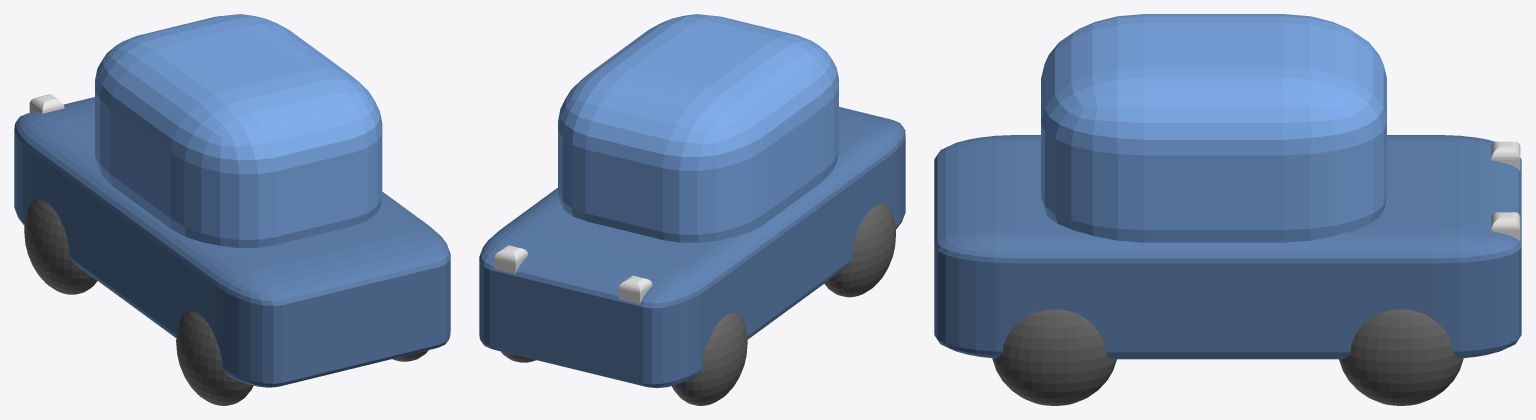
The model's file is car.fbx.
The picture shows the model from 3 angles, left to right: view 1: azimuth 30°, elevation 25°; view 2: azimuth 150°, elevation 25°; view 3: azimuth 270°, elevation 25°; orthographic projection. The views are drawn at different scales.
Parts seen in each view (by area): view 1: body, head, tire, light; view 2: body, head, tire, light; view 3: body, head, tire, light.
Boxes of the visible parts, <box> form: body: <box>14,97,450,387</box>; head: <box>95,14,382,247</box>; tire: <box>24,199,428,405</box>; light: <box>29,94,64,113</box>; body: <box>479,107,905,388</box>; head: <box>558,14,838,242</box>; tire: <box>501,204,895,405</box>; light: <box>494,245,652,304</box>; body: <box>934,135,1521,359</box>; head: <box>1041,14,1386,242</box>; tire: <box>992,309,1463,405</box>; light: <box>1491,141,1520,241</box>.
Size of the model in its own units: 470 by 500 by 862.
